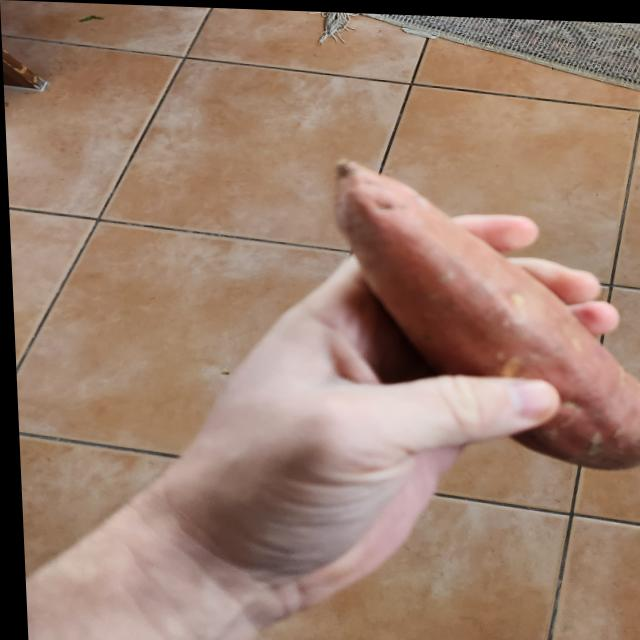kumara: (331, 153, 640, 470)
